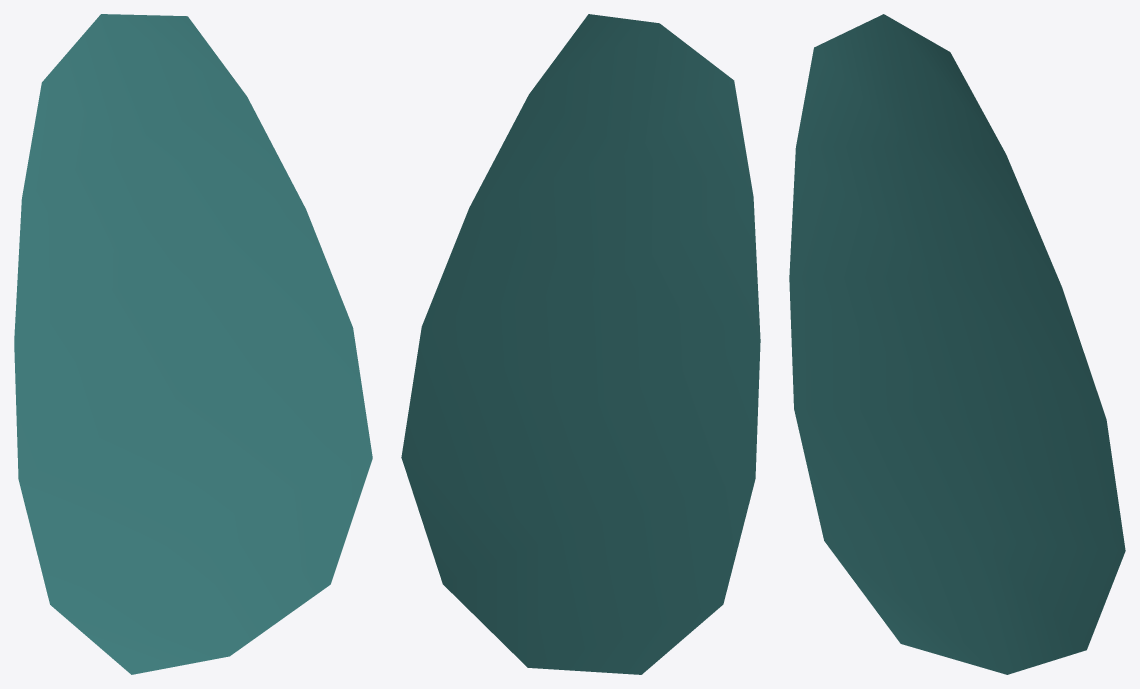
The model's file is budgie_feather_flight_tertiary_050.obj.
The picture shows the model from 3 angles, left to right: view 1: azimuth 30°, elevation 25°; view 2: azimuth 150°, elevation 25°; view 3: azimuth 330°, elevation 25°; orthographic projection. The views are drawn at different scales.
Parts seen in each view (by area): view 1: feather_flight_tertiary_050; view 2: feather_flight_tertiary_050; view 3: feather_flight_tertiary_050.
Part boxes in pixels (x1,y1,x2,y2): feather_flight_tertiary_050: (14, 14, 372, 674); feather_flight_tertiary_050: (401, 14, 760, 674); feather_flight_tertiary_050: (789, 14, 1125, 674).
Bounding box in the file's own units: 0.00853 × 0.0153 × 0.000387.
